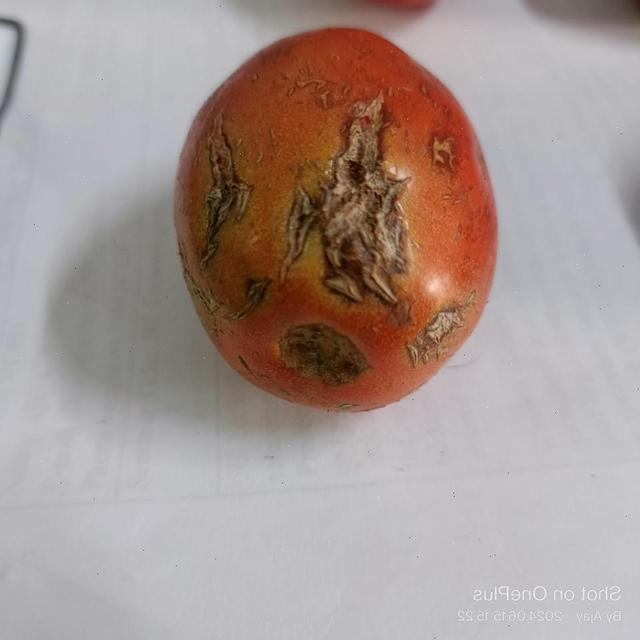Cracking Fruit: (181, 90, 310, 245)
